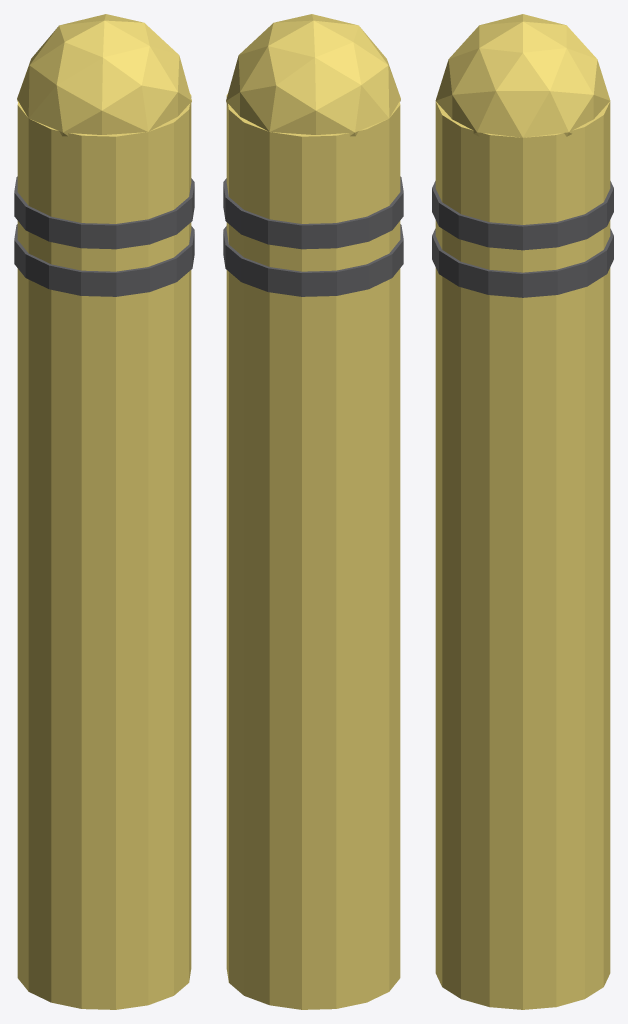
File: bollard.glb
3 renders of one model, left to right at view 1: azimuth 30°, elevation 25°; view 2: azimuth 150°, elevation 25°; view 3: azimuth 270°, elevation 25°, orthographic.
Visible parts, largest first — view 1: bollard_paint_y, bollard_dark; view 2: bollard_paint_y, bollard_dark; view 3: bollard_paint_y, bollard_dark.
Part boxes in pixels (<box>): bollard_paint_y: <box>17,14,191,1009</box>; bollard_dark: <box>14,176,194,296</box>; bollard_paint_y: <box>226,14,400,1009</box>; bollard_dark: <box>223,176,403,296</box>; bollard_paint_y: <box>435,14,610,1009</box>; bollard_dark: <box>432,181,613,297</box>.
Size of the model in its own units: 0.208 by 1.2 by 0.208.
